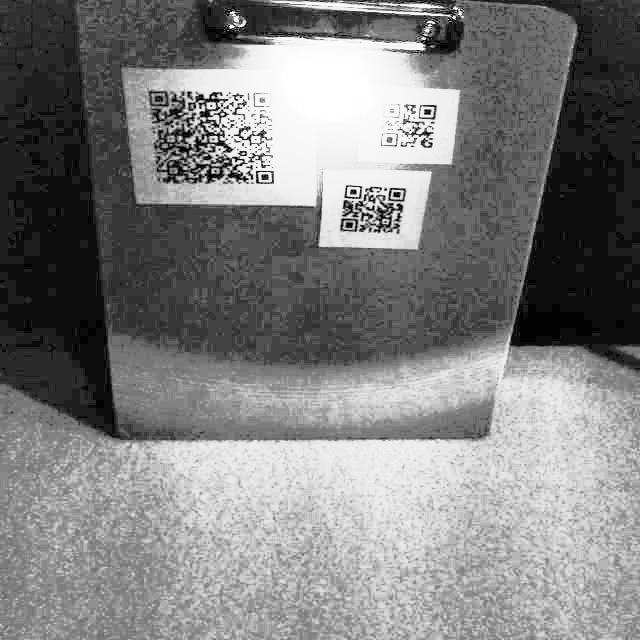qr_code: (130, 73, 287, 190), (332, 175, 421, 240), (372, 90, 459, 155)
